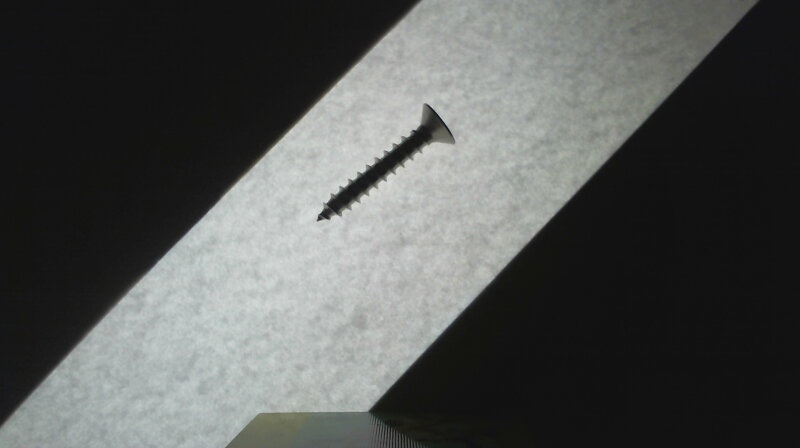S001: (311, 101, 457, 224)
